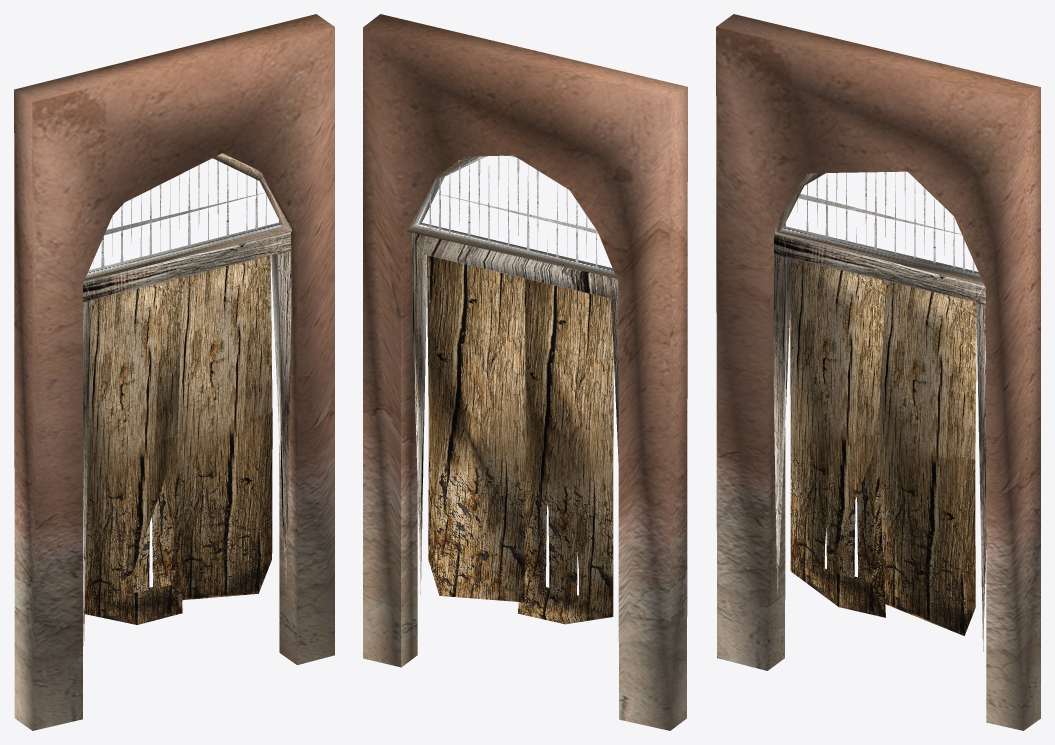
The model's file is PuertaCerrada2.obj.
3 views of the same model, side by side, from view 1: azimuth 30°, elevation 25°; view 2: azimuth 150°, elevation 25°; view 3: azimuth 330°, elevation 25° (orthographic).
Visible parts, largest first — view 1: polySurface4_Untitled.059; view 2: polySurface4_Untitled.059; view 3: polySurface4_Untitled.059.
Part boxes in pixels (bbox=[...]): polySurface4_Untitled.059: bbox=[14, 14, 334, 730]; polySurface4_Untitled.059: bbox=[363, 14, 687, 730]; polySurface4_Untitled.059: bbox=[716, 14, 1040, 730].
Size of the model in its own units: 0.5846 by 1.15 by 0.0709.
Materials: 5 (5 with a texture image).
